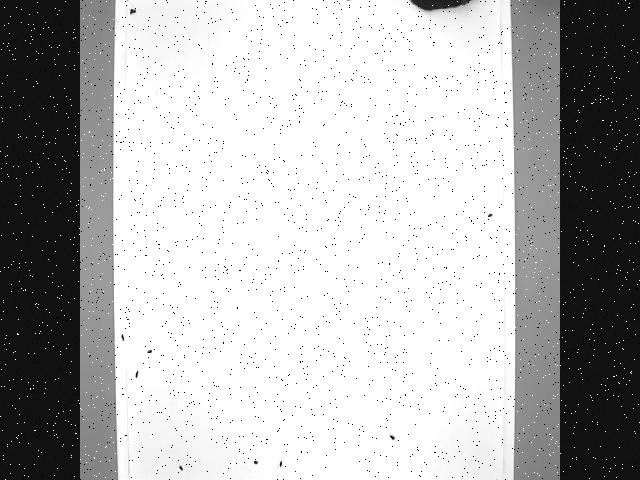Tikus: (338, 0, 486, 26)
